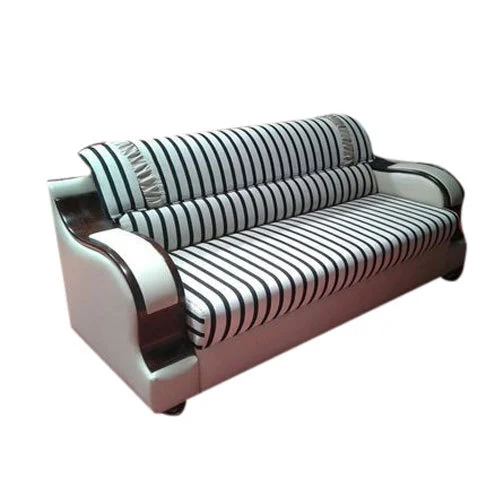3seatersofa: (49, 114, 465, 414)
backrest: (80, 115, 377, 249)
base: (151, 243, 464, 411)
leftarmrest: (372, 157, 463, 206)
leg: (443, 266, 464, 280), (163, 401, 185, 414)
rightarmrest: (49, 176, 190, 400)
seat: (170, 195, 456, 346)
